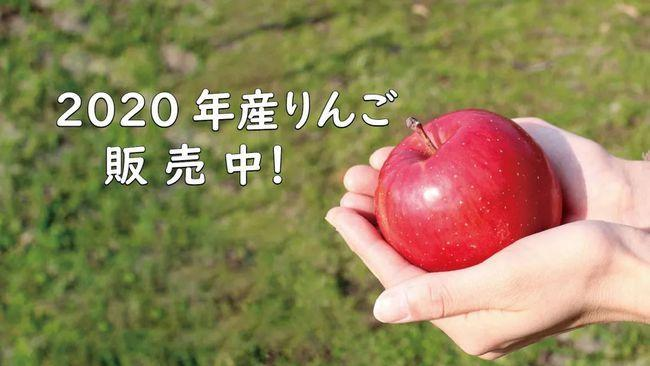apple: (375, 109, 561, 273)
